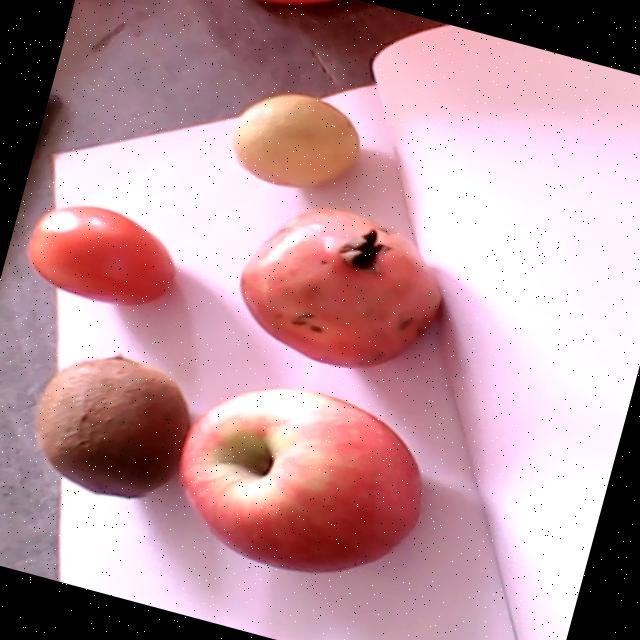apple: (177, 386, 423, 572)
kiwi: (35, 356, 189, 497)
lemon: (233, 93, 359, 188)
pomegranate: (239, 205, 442, 368)
tomato: (27, 205, 174, 305)
